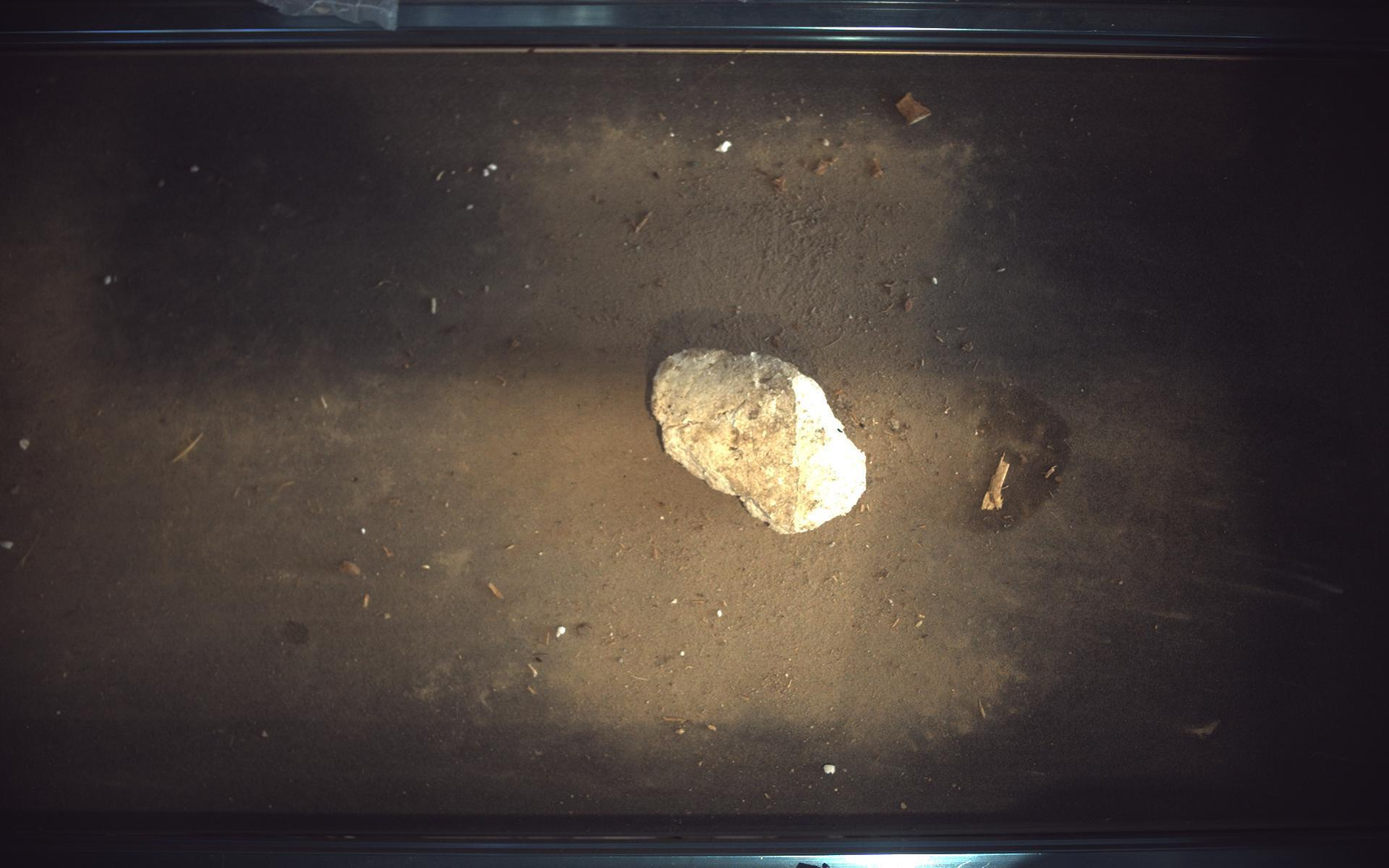foam: (652, 349, 867, 535)
